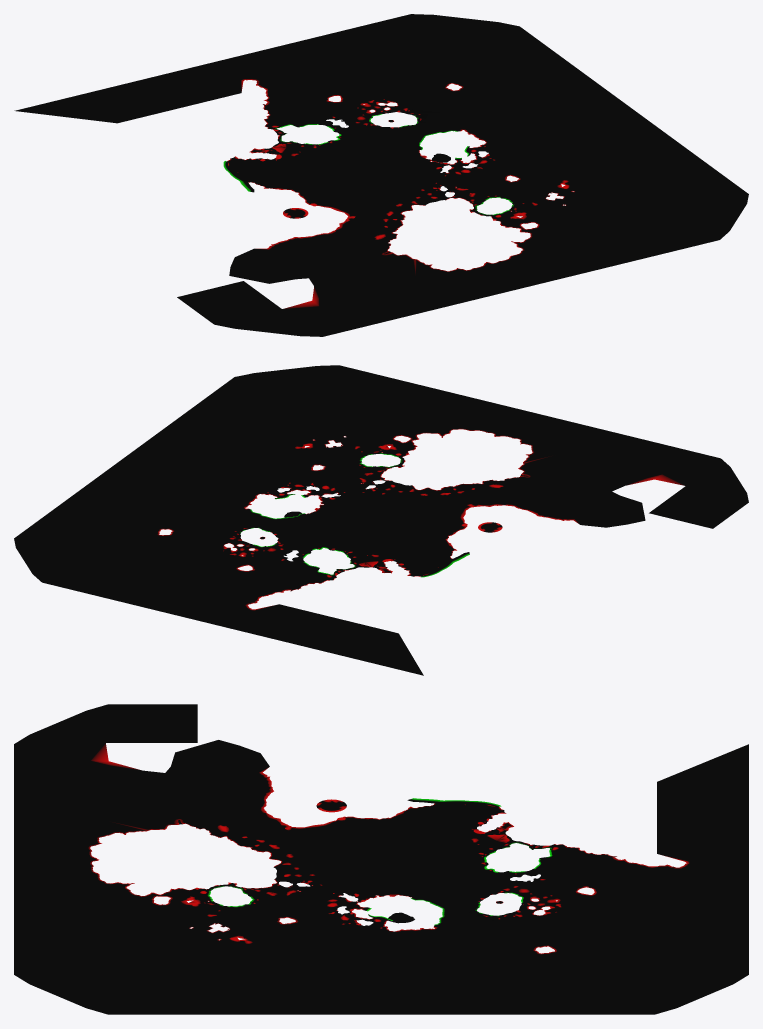
3 renders of one model, top to bottom at view 1: azimuth 30°, elevation 25°; view 2: azimuth 150°, elevation 25°; view 3: azimuth 270°, elevation 25°, orthographic. The views are drawn at different scales.
Parts seen in each view (by area): view 1: G:\FFXIV-MapTools\exports\e3f1\bg\ex2\02_est_e3\fld\e3f1\bgp (×3); view 2: G:\FFXIV-MapTools\exports\e3f1\bg\ex2\02_est_e3\fld\e3f1\bgp (×3); view 3: G:\FFXIV-MapTools\exports\e3f1\bg\ex2\02_est_e3\fld\e3f1\bgp (×3).
Boxes of the visible parts, x1,y1,x2,y2 form: G:\FFXIV-MapTools\exports\e3f1\bg\ex2\02_est_e3\fld\e3f1\bgp (×3): (14,14,748,336); G:\FFXIV-MapTools\exports\e3f1\bg\ex2\02_est_e3\fld\e3f1\bgp (×3): (14,365,748,675); G:\FFXIV-MapTools\exports\e3f1\bg\ex2\02_est_e3\fld\e3f1\bgp (×3): (14,704,748,1014).
Size of the model in its own units: 3840 by 65.57 by 3840.
